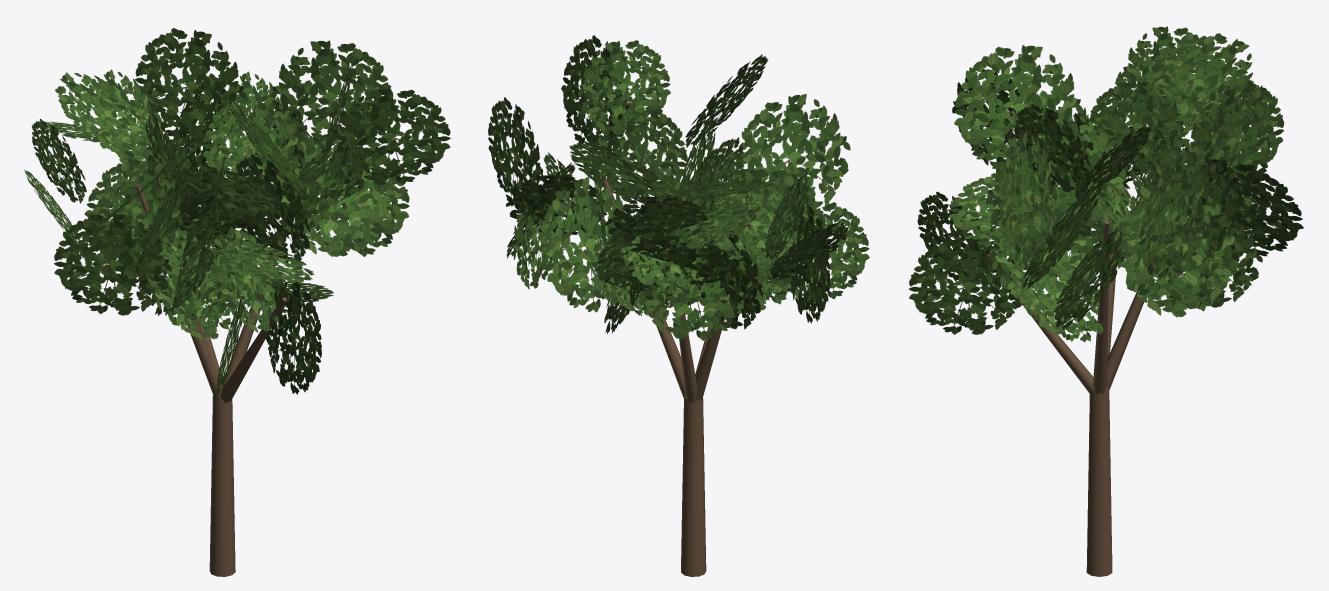
File: tree.glb
3 renders of one model, left to right at view 1: azimuth 30°, elevation 25°; view 2: azimuth 150°, elevation 25°; view 3: azimuth 270°, elevation 25°, orthographic. The views are drawn at different scales.
Parts seen in each view (by area): view 1: tree; view 2: tree; view 3: tree.
Boxes of the visible parts, left/top/right/bottom form: tree: left=24, top=28, right=450, bottom=576; tree: left=488, top=35, right=869, bottom=576; tree: left=909, top=26, right=1303, bottom=576.
Bounding box in the file's own units: 6.04 × 7.66 × 5.48.
Materials: 2 (1 with a texture image).
